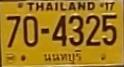0: (22, 15, 37, 46)
2: (86, 14, 100, 45)
3: (68, 14, 83, 45)
4: (52, 15, 66, 46)
5: (102, 14, 116, 45)
7: (6, 15, 20, 47)
NBI: (42, 49, 84, 64)
